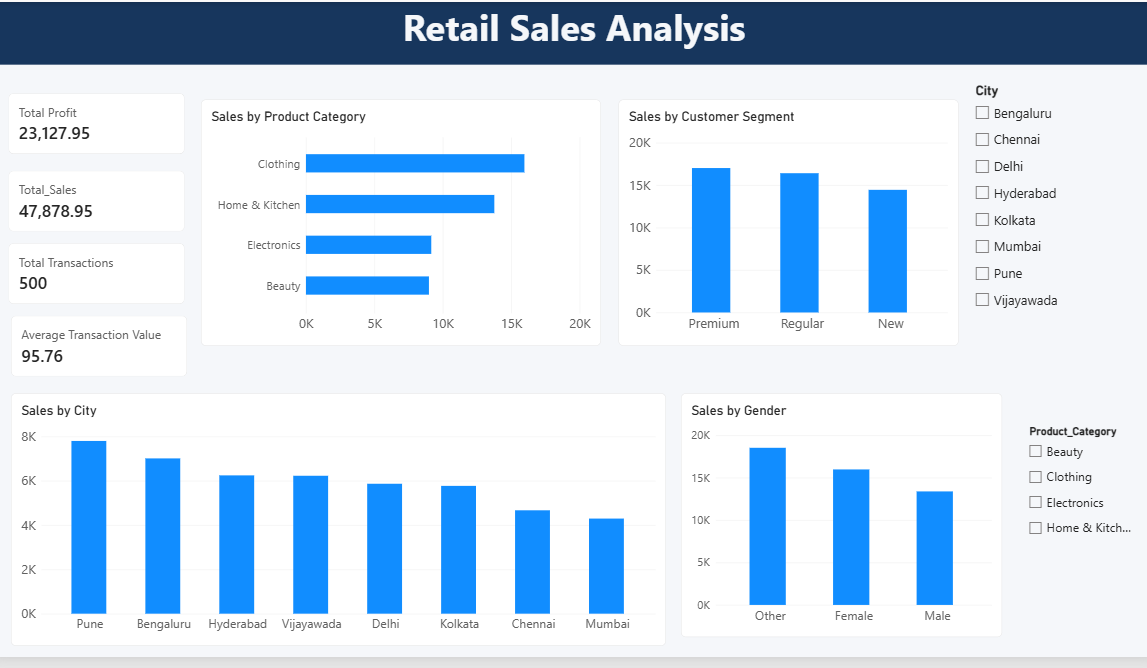

Layout of this report page (visuals, bound fields, positions):
{"tool":"powerbi","page":{"name":"Page 1","canvas":[1920,1080],"ordinal":0},"visuals":[{"type":"cardVisual","fields":{"Data":["Sum(Retail_Sales_Cleaned.Total_Amount)"]},"box":[28.8,277.9,290,100],"z":0},{"type":"cardVisual","fields":{"Data":["Sum(Retail_Sales_Cleaned.Profit)"]},"box":[28.8,150.3,290,100],"z":1000},{"type":"cardVisual","fields":{"Data":["Count(Retail_Sales_Cleaned.Transaction_ID)"]},"box":[28.8,397.3,290,100],"z":2000},{"type":"cardVisual","fields":{"Data":["Avg(Retail_Sales_Cleaned.Total_Amount)"]},"box":[32.9,516.6,290,100],"z":3000},{"type":"clusteredBarChart","title":"Sales by Product Category","fields":{"Category":["Retail_Sales_Cleaned.Product_Category"],"Y":["Sum(Retail_Sales_Cleaned.Total_Amount)"]},"box":[345.8,160.5,658.7,405.5],"z":4000},{"type":"clusteredColumnChart","title":"Sales by City","fields":{"Category":["Retail_Sales_Cleaned.City"],"Y":["Sum(Retail_Sales_Cleaned.Total_Amount)"]},"box":[32.9,644.3,1078.6,415.8],"z":5000},{"type":"clusteredColumnChart","title":"Sales by Customer Segment","fields":{"Category":["Retail_Sales_Cleaned.Customer_Segment"],"Y":["Sum(Retail_Sales_Cleaned.Total_Amount)"]},"box":[1033.3,160.5,559.9,405.5],"z":8000},{"type":"clusteredColumnChart","title":"Sales by Gender","fields":{"Category":["Retail_Sales_Cleaned.Gender"],"Y":["Sum(Retail_Sales_Cleaned.Total_Amount)"]},"box":[1136.2,644.3,529,401.4],"z":10000},{"type":"slicer","fields":{"Values":["Retail_Sales_Cleaned.City"]},"box":[1613.7,133.8,279.9,387],"z":11000},{"type":"slicer","fields":{"Values":["Retail_Sales_Cleaned.Product_Category"]},"box":[1702.2,695.7,177,298.5],"z":12000},{"type":"textbox","title":"Retail Sales Analysis","box":[0,0,1920.4,102.9],"z":15000}]}

Visuals, with their boxes on the page's 1920x1080 design canvas (x1, y1, x2, y2). These are canvas units, not pixel positions in the 1147x668 screenshot, which may show the page scaled, cropped or inside an application window:
cardVisual - Sum(Retail_Sales_Cleaned.Total_Amount): {"x1": 29, "y1": 278, "x2": 319, "y2": 378}
cardVisual - Sum(Retail_Sales_Cleaned.Profit): {"x1": 29, "y1": 150, "x2": 319, "y2": 250}
cardVisual - Count(Retail_Sales_Cleaned.Transaction_ID): {"x1": 29, "y1": 397, "x2": 319, "y2": 497}
cardVisual - Avg(Retail_Sales_Cleaned.Total_Amount): {"x1": 33, "y1": 517, "x2": 323, "y2": 617}
"Sales by Product Category" clusteredBarChart: {"x1": 346, "y1": 160, "x2": 1004, "y2": 566}
"Sales by City" clusteredColumnChart: {"x1": 33, "y1": 644, "x2": 1112, "y2": 1060}
"Sales by Customer Segment" clusteredColumnChart: {"x1": 1033, "y1": 160, "x2": 1593, "y2": 566}
"Sales by Gender" clusteredColumnChart: {"x1": 1136, "y1": 644, "x2": 1665, "y2": 1046}
slicer - Retail_Sales_Cleaned.City: {"x1": 1614, "y1": 134, "x2": 1894, "y2": 521}
slicer - Retail_Sales_Cleaned.Product_Category: {"x1": 1702, "y1": 696, "x2": 1879, "y2": 994}
"Retail Sales Analysis" textbox: {"x1": 0, "y1": 0, "x2": 1920, "y2": 103}
